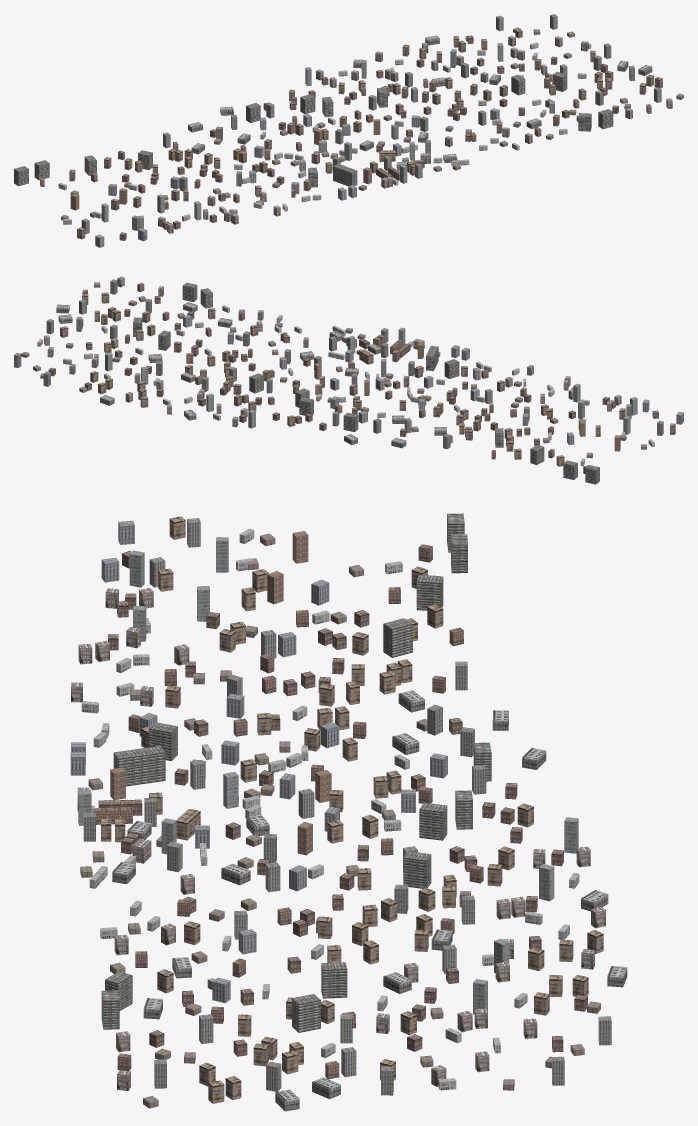
Rendered from buildings map1.fbx.
3 views of the same model, one above another, from view 1: azimuth 30°, elevation 25°; view 2: azimuth 150°, elevation 25°; view 3: azimuth 270°, elevation 25° (orthographic). The views are drawn at different scales.
Visible parts, largest first — view 1: no part large enough to name; view 2: no part large enough to name; view 3: building.068, building.284, building.132, building.110, building.306, building.242, building.008.
Boxes of the visible parts, <box> form: building.068: <box>383,618,412,657</box>; building.284: <box>419,802,447,840</box>; building.132: <box>292,994,320,1032</box>; building.110: <box>403,851,431,888</box>; building.306: <box>321,962,347,998</box>; building.242: <box>416,574,443,610</box>; building.008: <box>137,746,165,784</box>.
Bounding box in the file's own units: 1001773 × 25561 × 407824.
